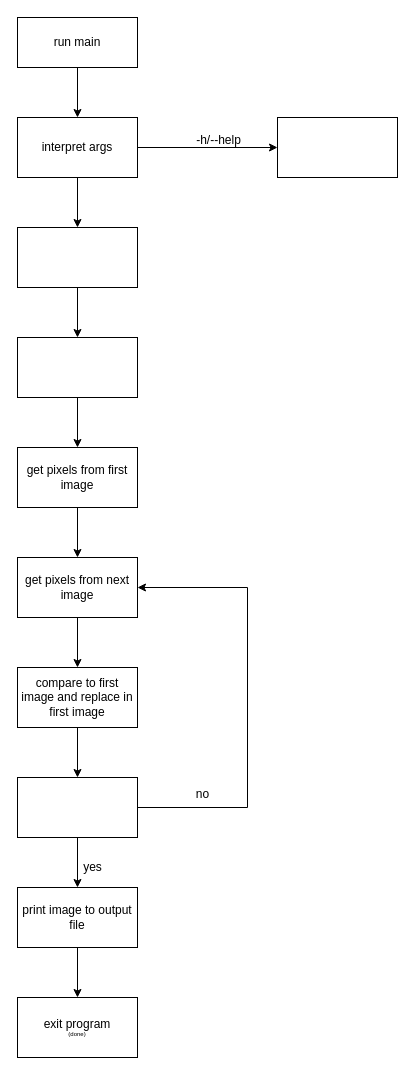
Image size: 415x1075. Some labels were removed from this diagram. Each missing label, with the box of its shape:
get images into array: (16, 336, 138, 398)
is done?: (16, 776, 138, 838)
print help: (276, 116, 398, 178)
run ffmpeg and split into images: (16, 226, 138, 288)
